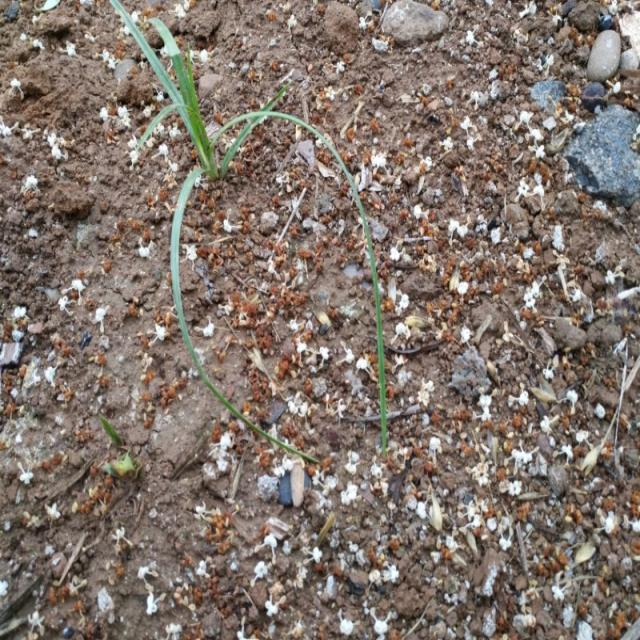sedge: (103, 7, 391, 482)
